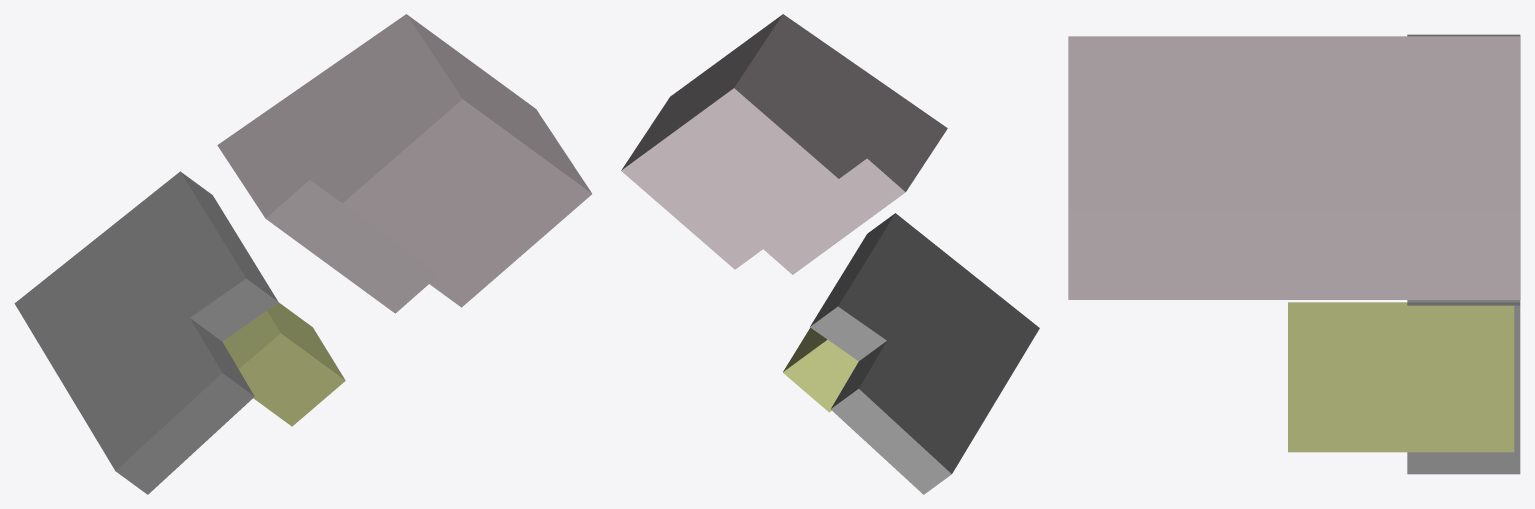
3 views of the same model, side by side, from view 1: azimuth 30°, elevation 25°; view 2: azimuth 150°, elevation 25°; view 3: azimuth 270°, elevation 25° (orthographic). The views are drawn at different scales.
Visible parts, largest first — view 1: 0_1_1_3_2_2_3_0_3_2; view 2: 0_1_1_3_2_2_3_0_3_2; view 3: 0_1_1_3_2_2_3_0_3_2.
Boxes of the visible parts, x1,y1,x2,y2 form: 0_1_1_3_2_2_3_0_3_2: [14, 14, 591, 494]; 0_1_1_3_2_2_3_0_3_2: [621, 14, 1039, 494]; 0_1_1_3_2_2_3_0_3_2: [1068, 34, 1520, 474].
Size of the model in its own units: 23.93 by 19.7 by 12.
